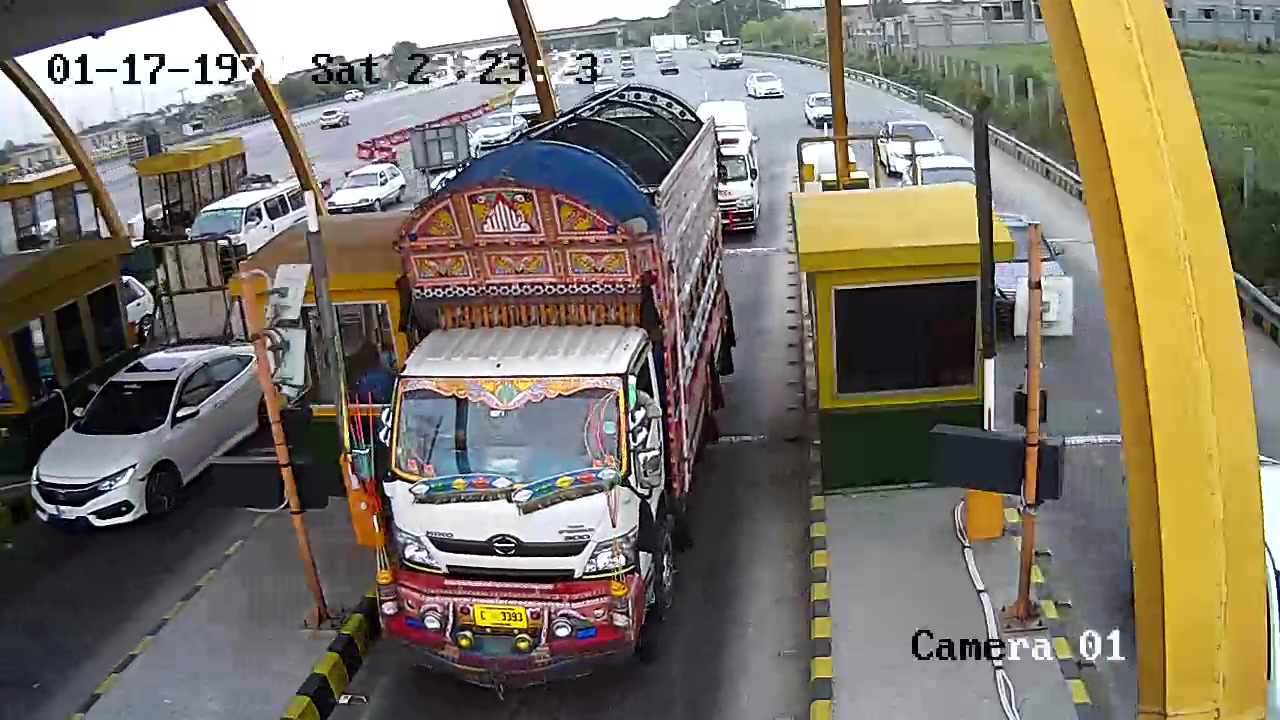F5: (377, 85, 742, 696)
